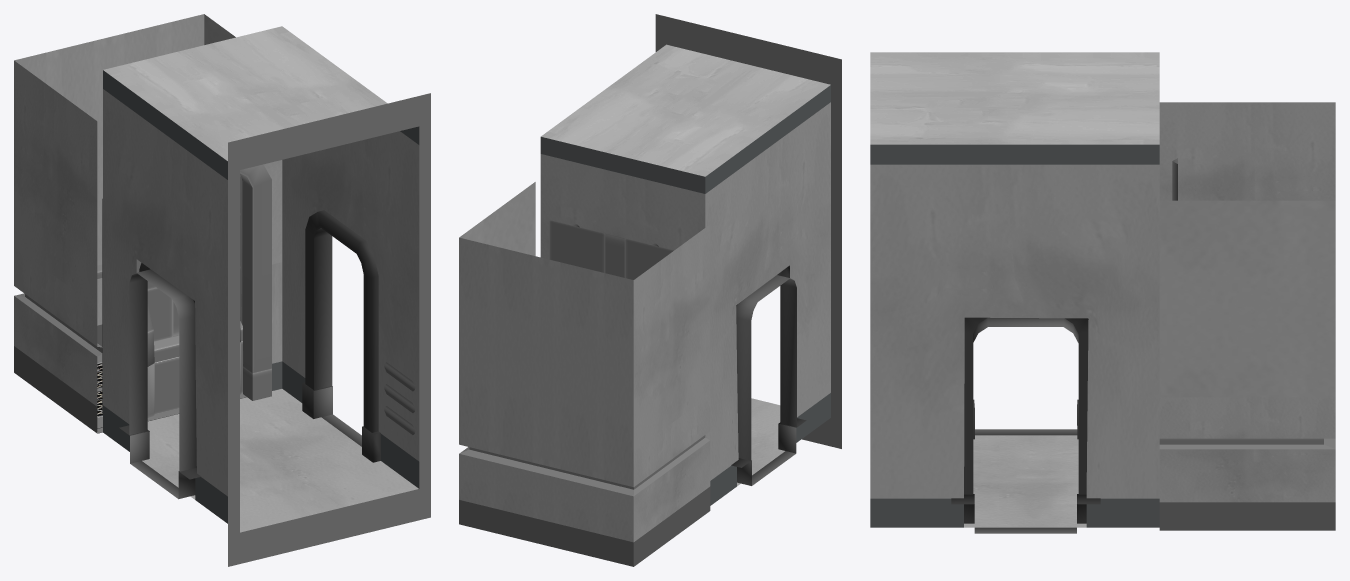
The model's file is MSH_QuestElevator_L1.fbx.
3 views of the same model, side by side, from view 1: azimuth 30°, elevation 25°; view 2: azimuth 150°, elevation 25°; view 3: azimuth 270°, elevation 25° (orthographic). The views are drawn at different scales.
Parts seen in each view (by area): view 1: MSH_QuestElevator_L1, MSH_QuestElevator_L1_R1_Room_Back, MSH_QuestElevator_L1_R1_Room_frame, MSH_Elevator_DoorUp, MSH_Elevator_DoorDown; view 2: MSH_QuestElevator_L1_R1_Room_Back, MSH_QuestElevator_L1, MSH_QuestElevator_L1_R1_Room_frame, MSH_Elevator_DoorUp; view 3: MSH_QuestElevator_L1, MSH_QuestElevator_L1_R1_Room_Back.
Part boxes in pixels (x1,y1,x2,y2): MSH_QuestElevator_L1: [97, 26, 419, 532]; MSH_QuestElevator_L1_R1_Room_Back: [14, 14, 235, 433]; MSH_QuestElevator_L1_R1_Room_frame: [228, 93, 430, 566]; MSH_Elevator_DoorUp: [147, 176, 242, 366]; MSH_Elevator_DoorDown: [147, 341, 242, 418]; MSH_QuestElevator_L1_R1_Room_Back: [459, 182, 710, 566]; MSH_QuestElevator_L1: [540, 44, 830, 505]; MSH_QuestElevator_L1_R1_Room_frame: [655, 14, 841, 448]; MSH_Elevator_DoorUp: [549, 220, 673, 279]; MSH_QuestElevator_L1: [870, 52, 1159, 533]; MSH_QuestElevator_L1_R1_Room_Back: [1159, 102, 1335, 530].
Bounding box in the file's own units: 3.43 × 6.87 × 6.46.
